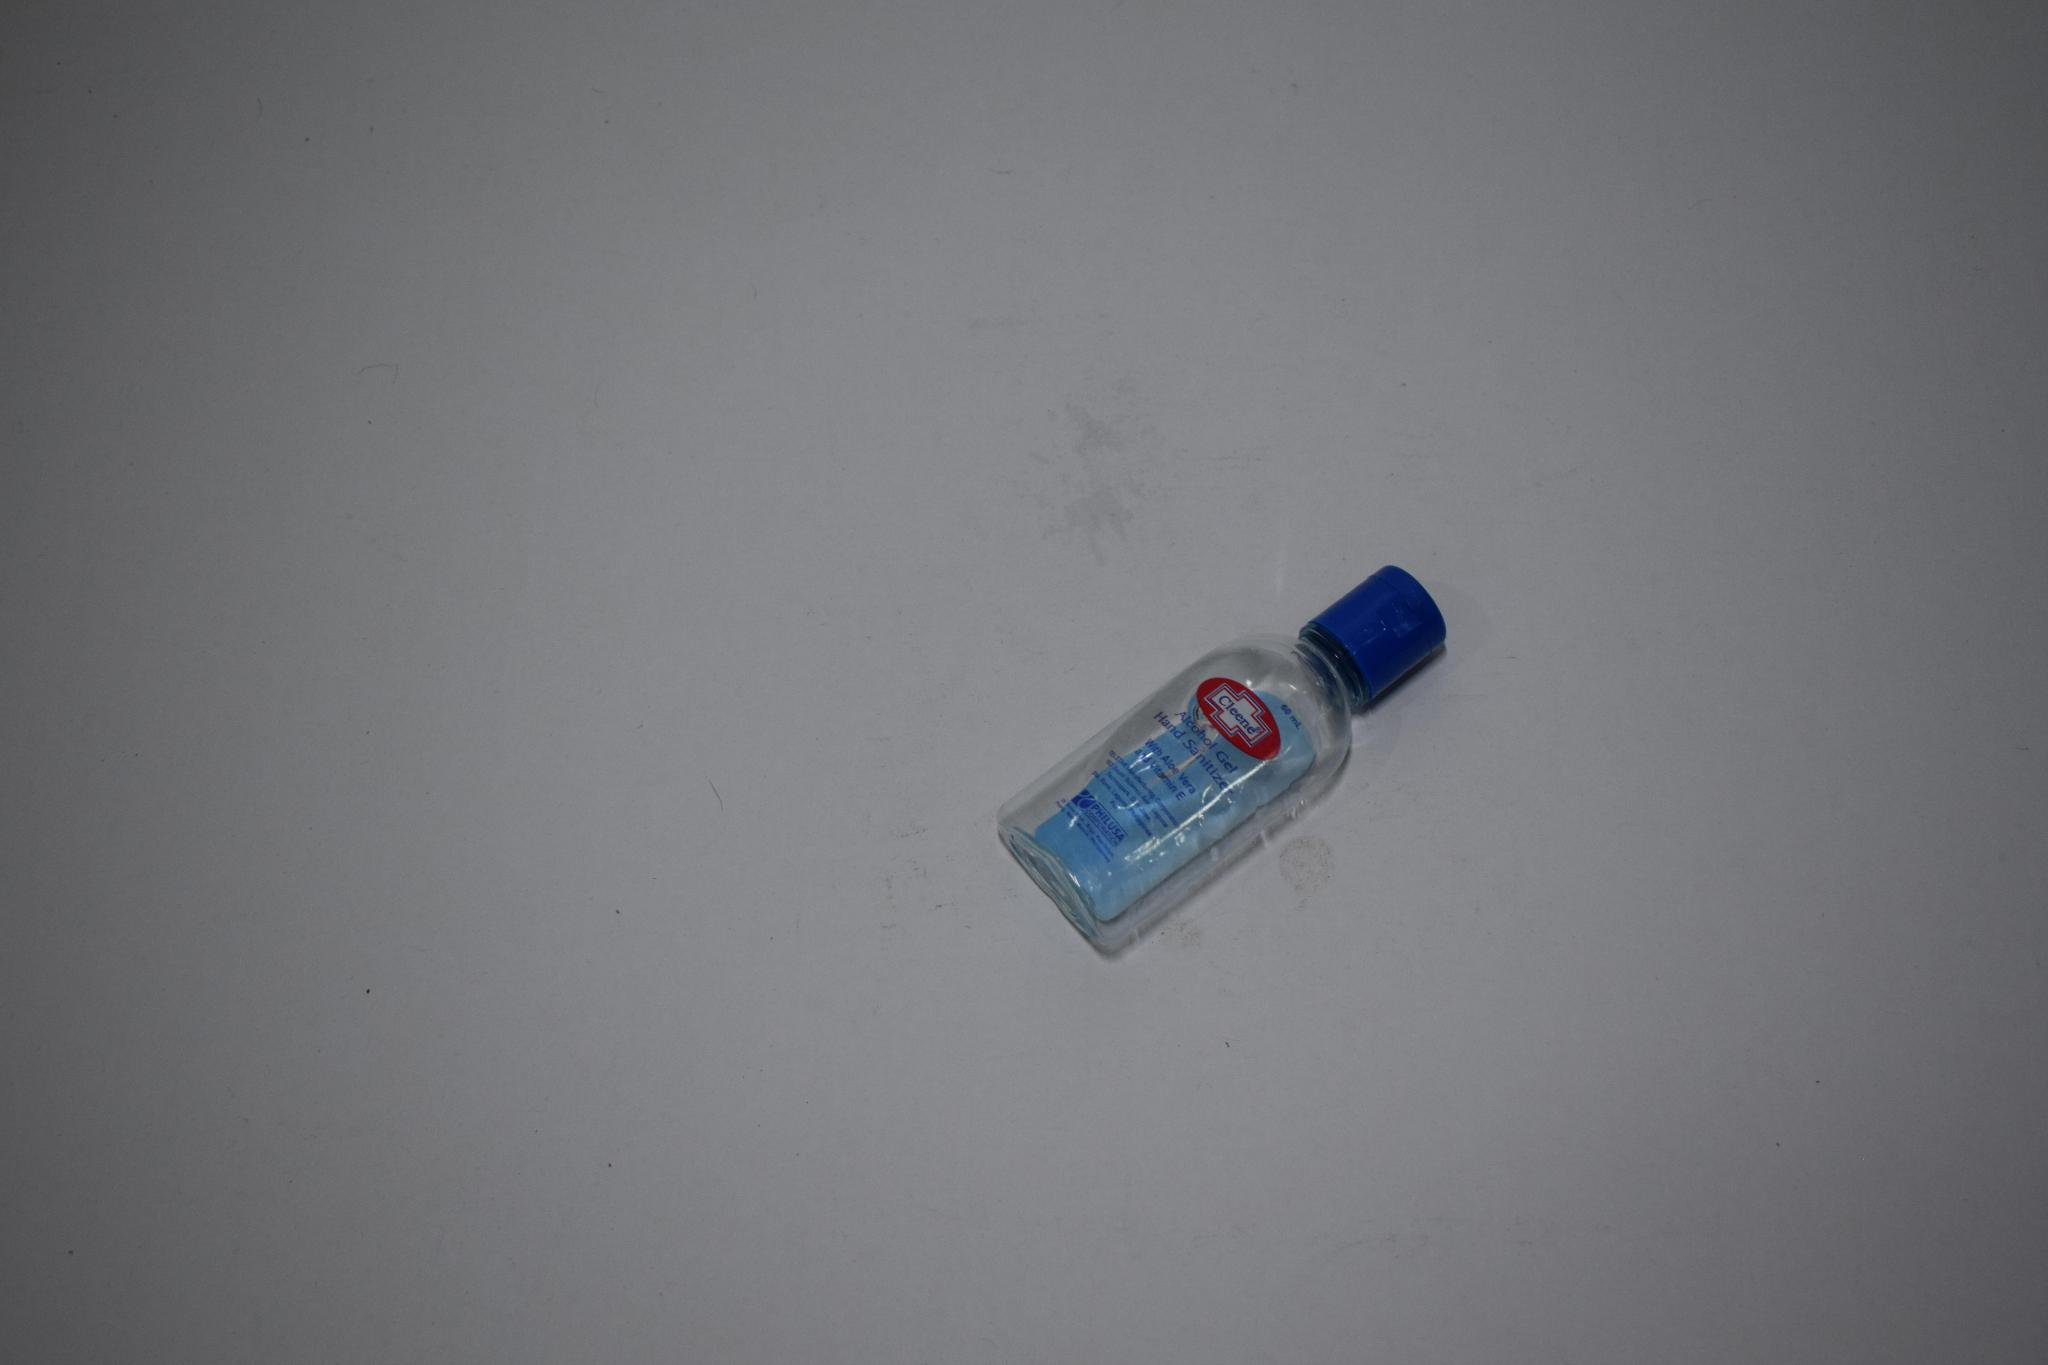bottle: (959, 541, 1463, 973)
